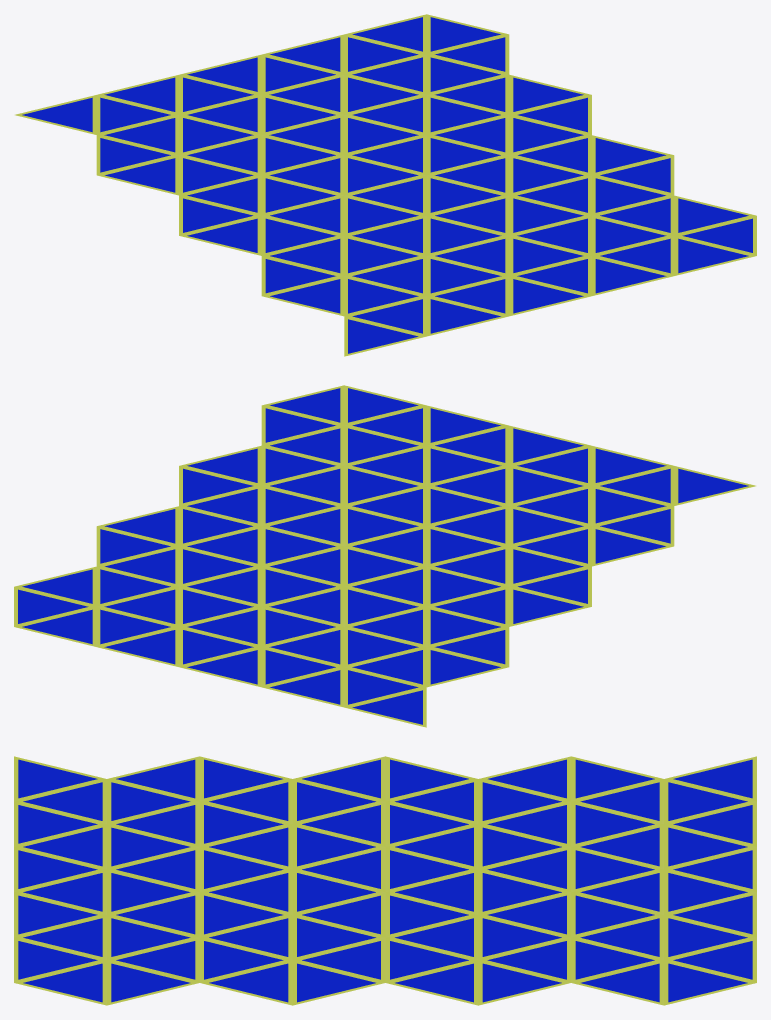
3 renders of one model, top to bottom at view 1: azimuth 30°, elevation 25°; view 2: azimuth 150°, elevation 25°; view 3: azimuth 270°, elevation 25°, orthographic. The views are drawn at different scales.
Visible parts, largest first — view 1: Circle; view 2: Circle; view 3: Circle.
Boxes of the visible parts, left/top/right/bottom form: Circle: left=15, top=14, right=756, bottom=356; Circle: left=14, top=385, right=755, bottom=727; Circle: left=14, top=756, right=756, bottom=1005.
Bounding box in the file's own units: 5.5 × 0 × 6.93.
